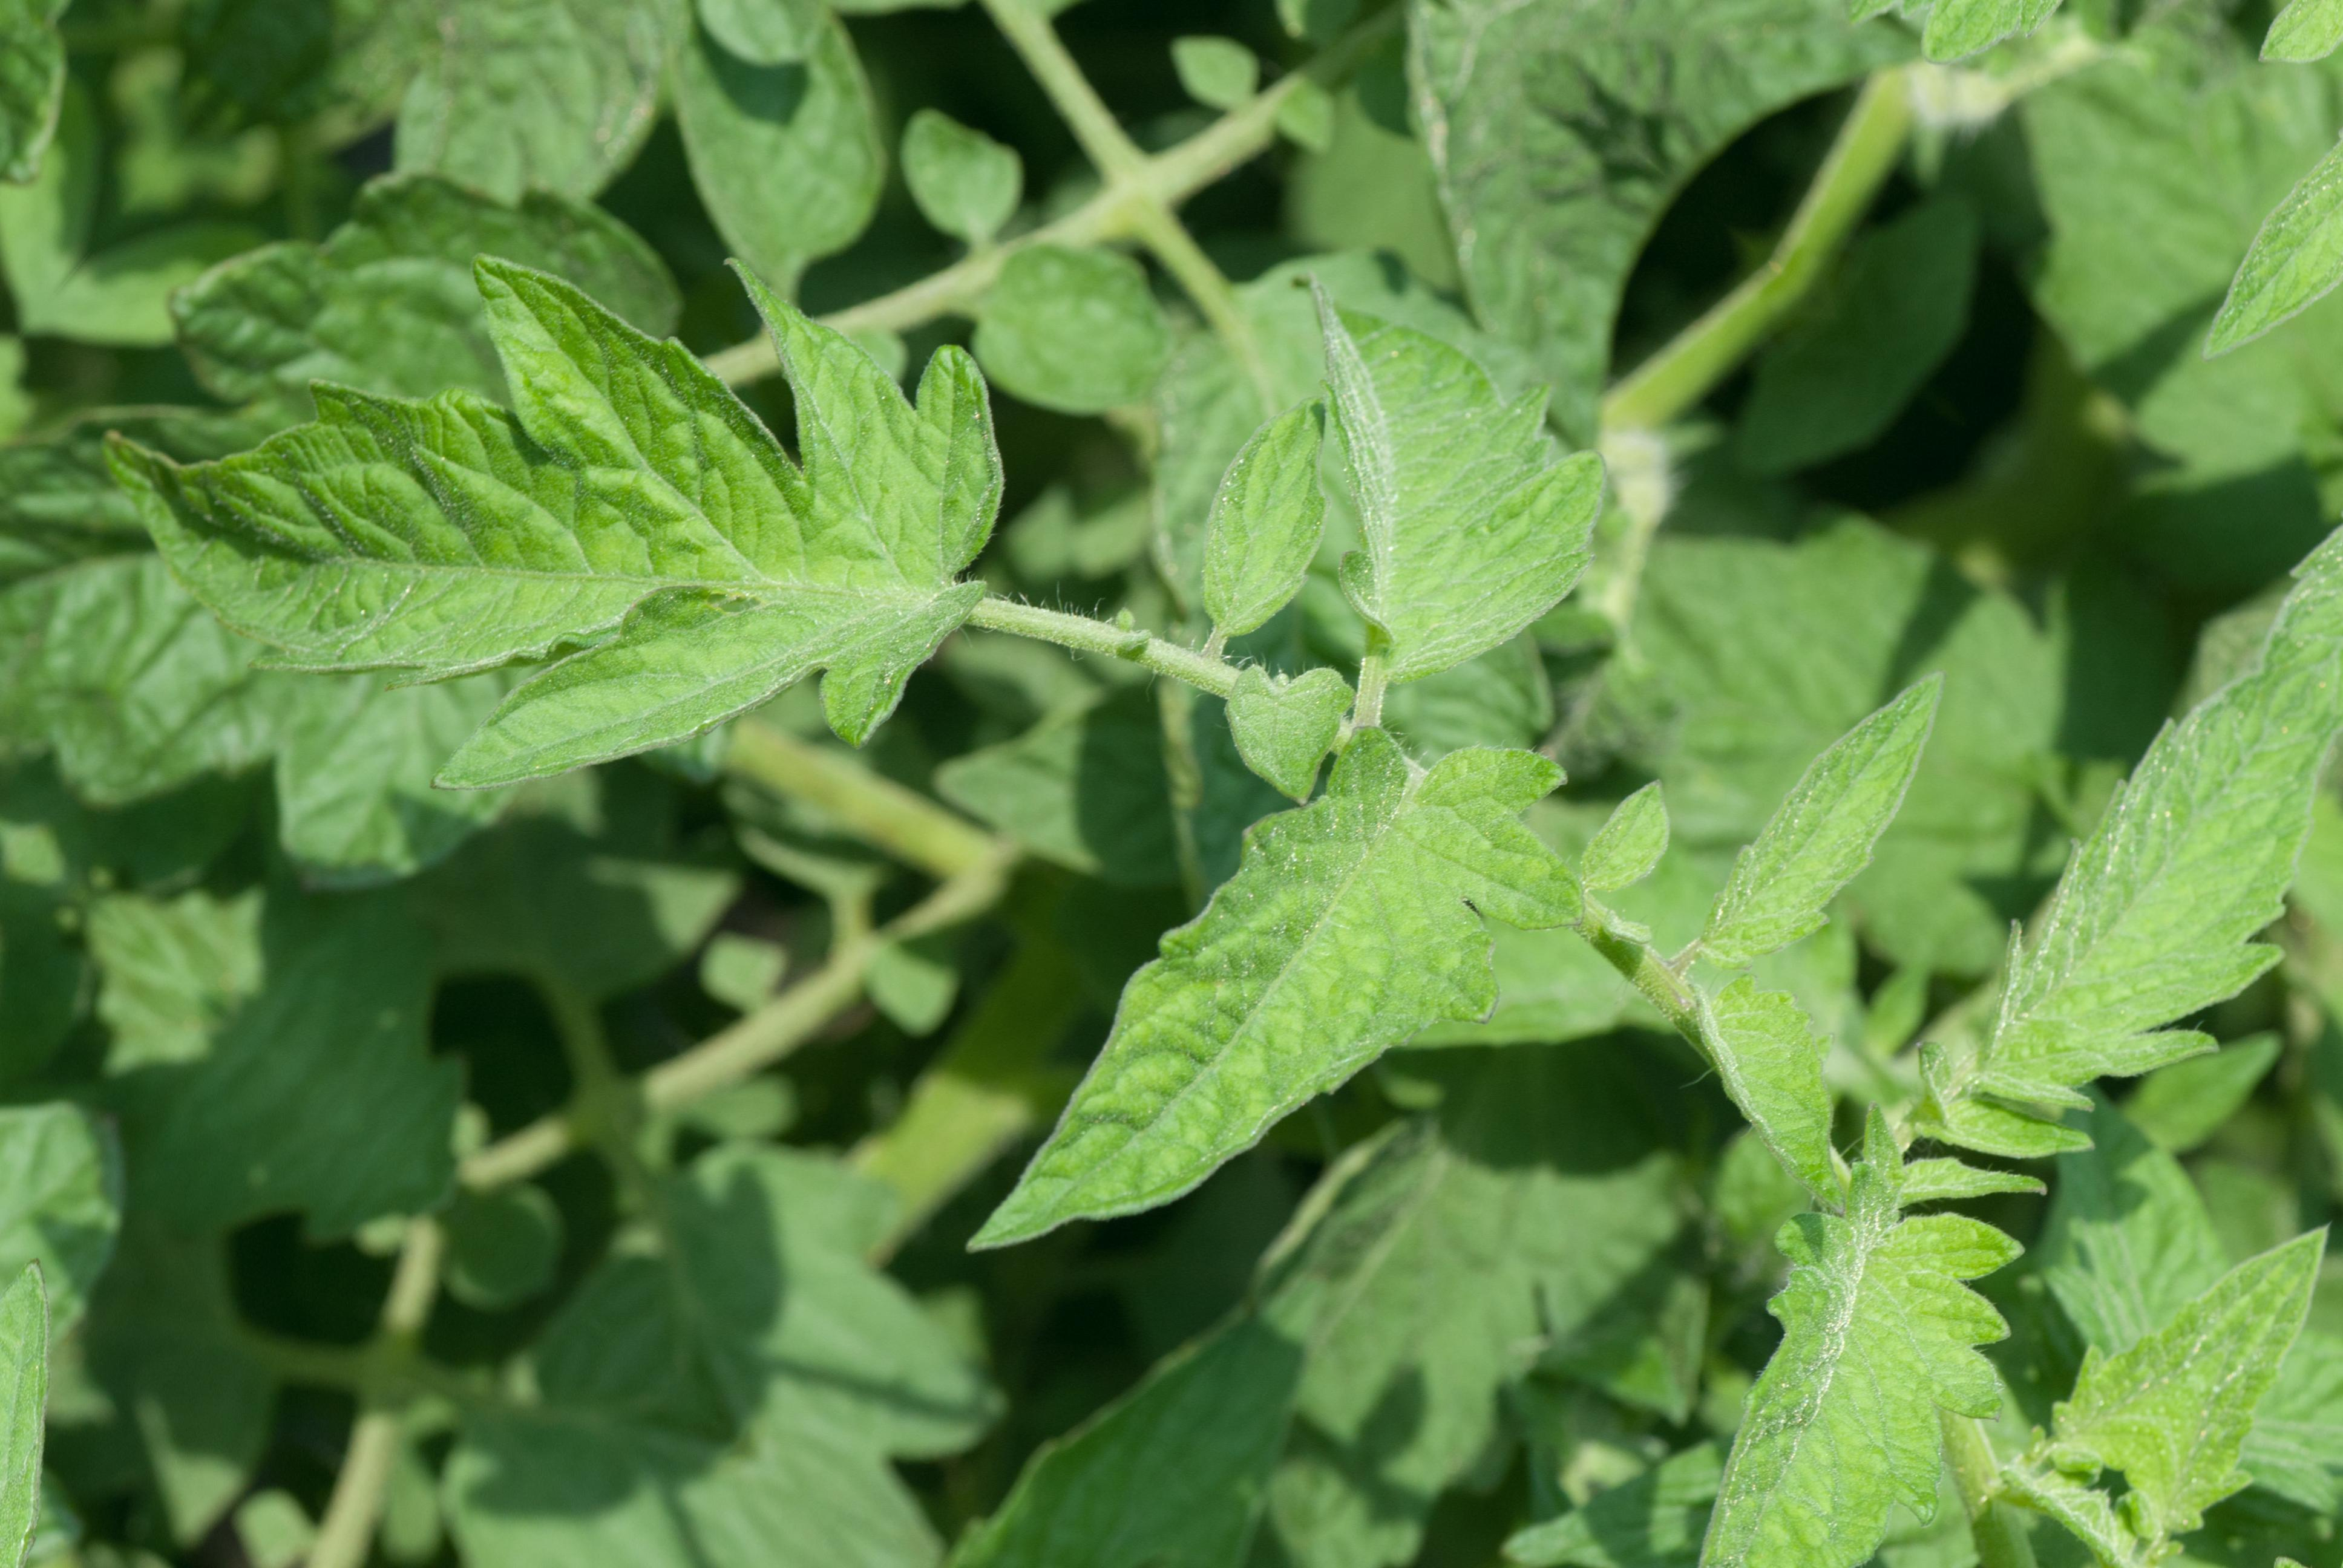Tomato leaf: (89, 44, 1186, 1109), (912, 621, 1690, 1458), (1417, 1043, 2194, 1568), (1080, 171, 1717, 810)
